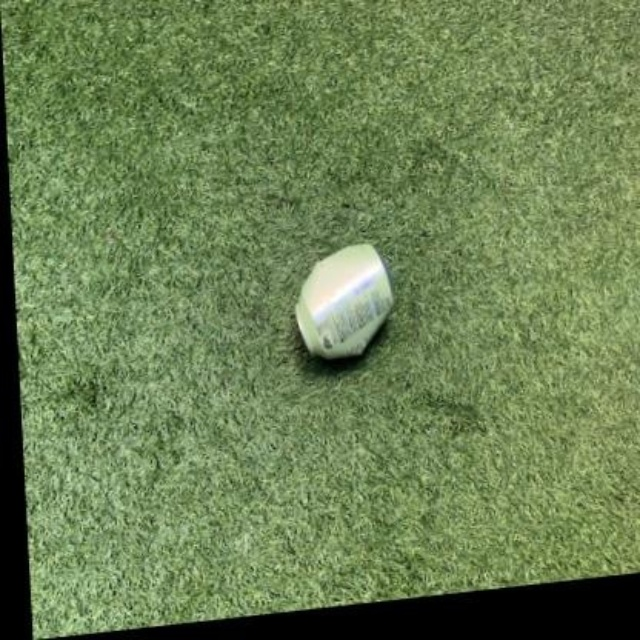trash: (295, 245, 392, 357)
